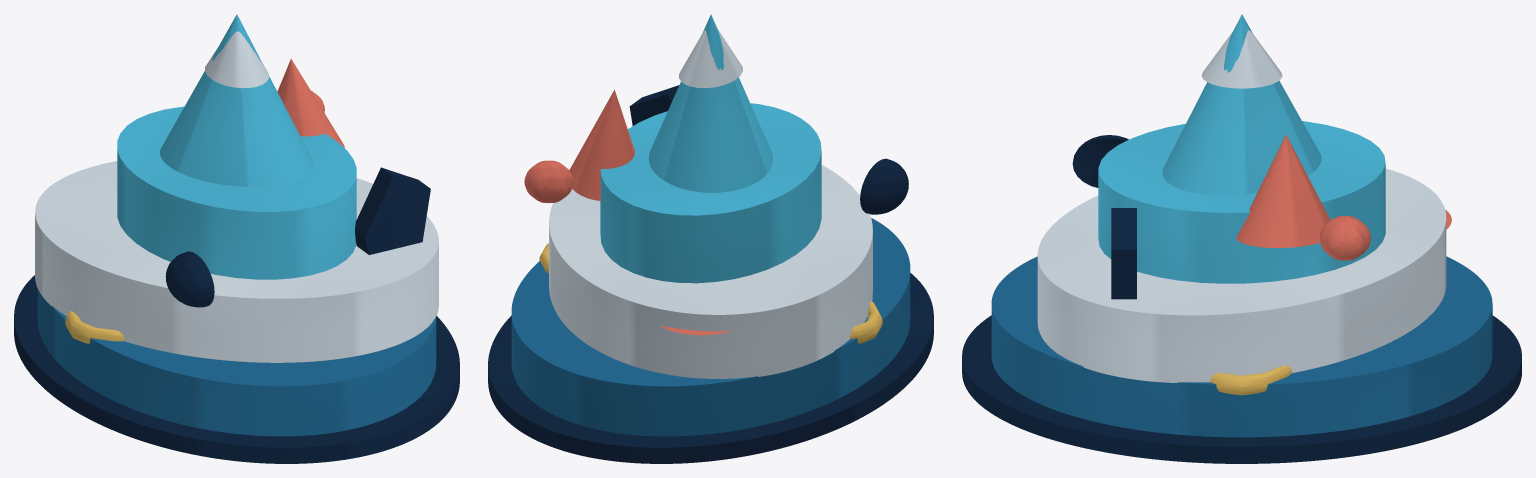
Rendered from 0644_地貌图鉴_海蚀窗.glb.
3 views of the same model, side by side, from view 1: azimuth 30°, elevation 25°; view 2: azimuth 150°, elevation 25°; view 3: azimuth 270°, elevation 25° (orthographic). The views are drawn at different scales.
Visible parts, largest first — view 1: card_0644; view 2: card_0644; view 3: card_0644.
Boxes of the visible parts, x1=… form: card_0644: x1=14, y1=14, x2=459, y2=463; card_0644: x1=488, y1=14, x2=933, y2=463; card_0644: x1=962, y1=14, x2=1521, y2=463.
Size of the model in its own units: 1.09 by 1 by 1.41.
